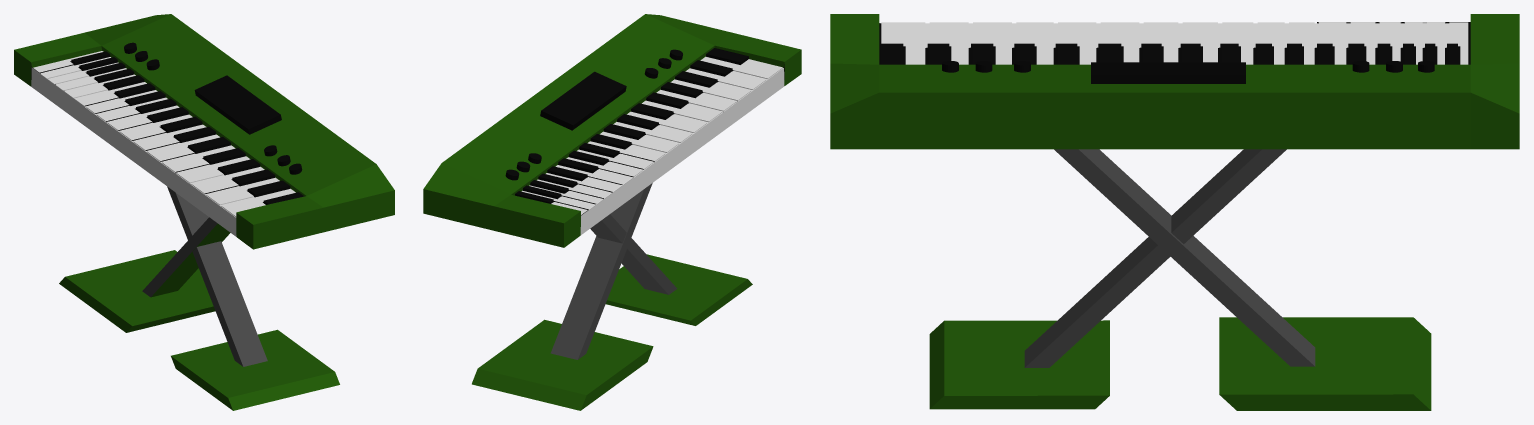
File: keyboardpiano.fbx
3 views of the same model, side by side, from view 1: azimuth 30°, elevation 25°; view 2: azimuth 150°, elevation 25°; view 3: azimuth 270°, elevation 25° (orthographic). The views are drawn at different scales.
Parts seen in each view (by area): view 1: Cube; view 2: Cube; view 3: Cube.
Part boxes in pixels (x1,y1,x2,y2): Cube: (14, 14, 394, 410); Cube: (423, 14, 801, 410); Cube: (830, 14, 1519, 410).
Size of the model in its own units: 480 by 745 by 1403.
